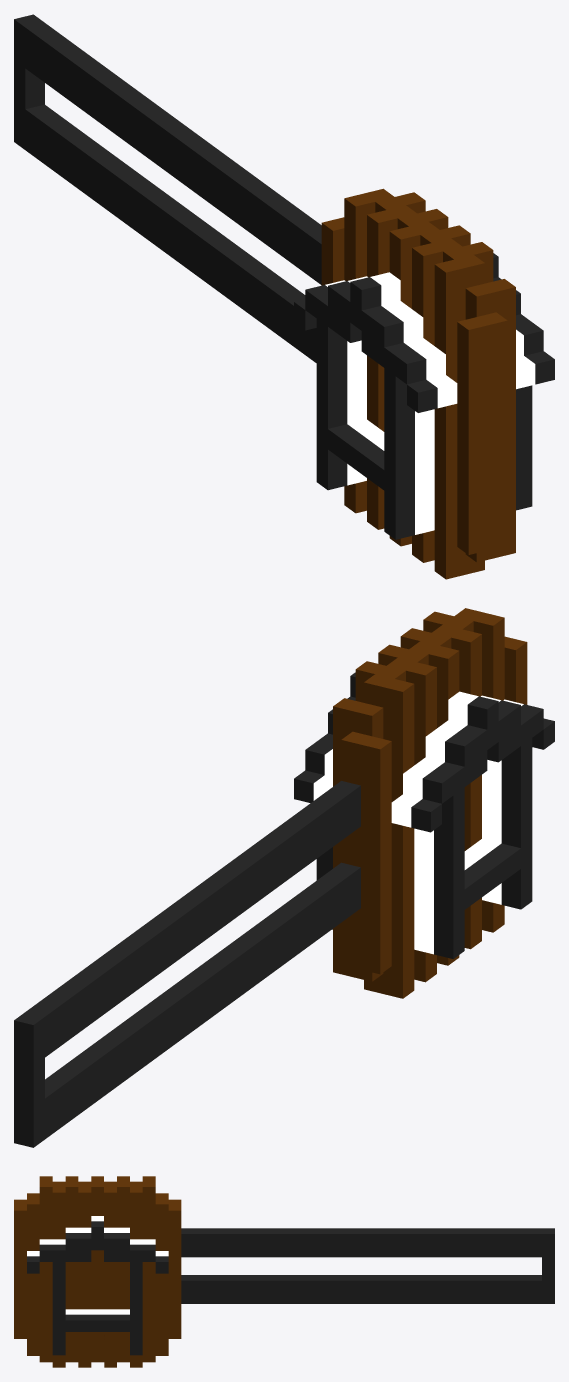
Rendered from udonSign.glb.
3 renders of one model, top to bottom at view 1: azimuth 30°, elevation 25°; view 2: azimuth 150°, elevation 25°; view 3: azimuth 270°, elevation 25°, orthographic. The views are drawn at different scales.
Visible parts, largest first — view 1: ObjObject; view 2: ObjObject; view 3: ObjObject.
Boxes of the visible parts, box(x1,y1,x2,y2) form: ObjObject: box(14, 14, 554, 579); ObjObject: box(14, 608, 554, 1147); ObjObject: box(14, 1176, 554, 1367).
Size of the model in its own units: 0.7 by 1.5 by 4.2.
Materials: 2 (1 with a texture image).
